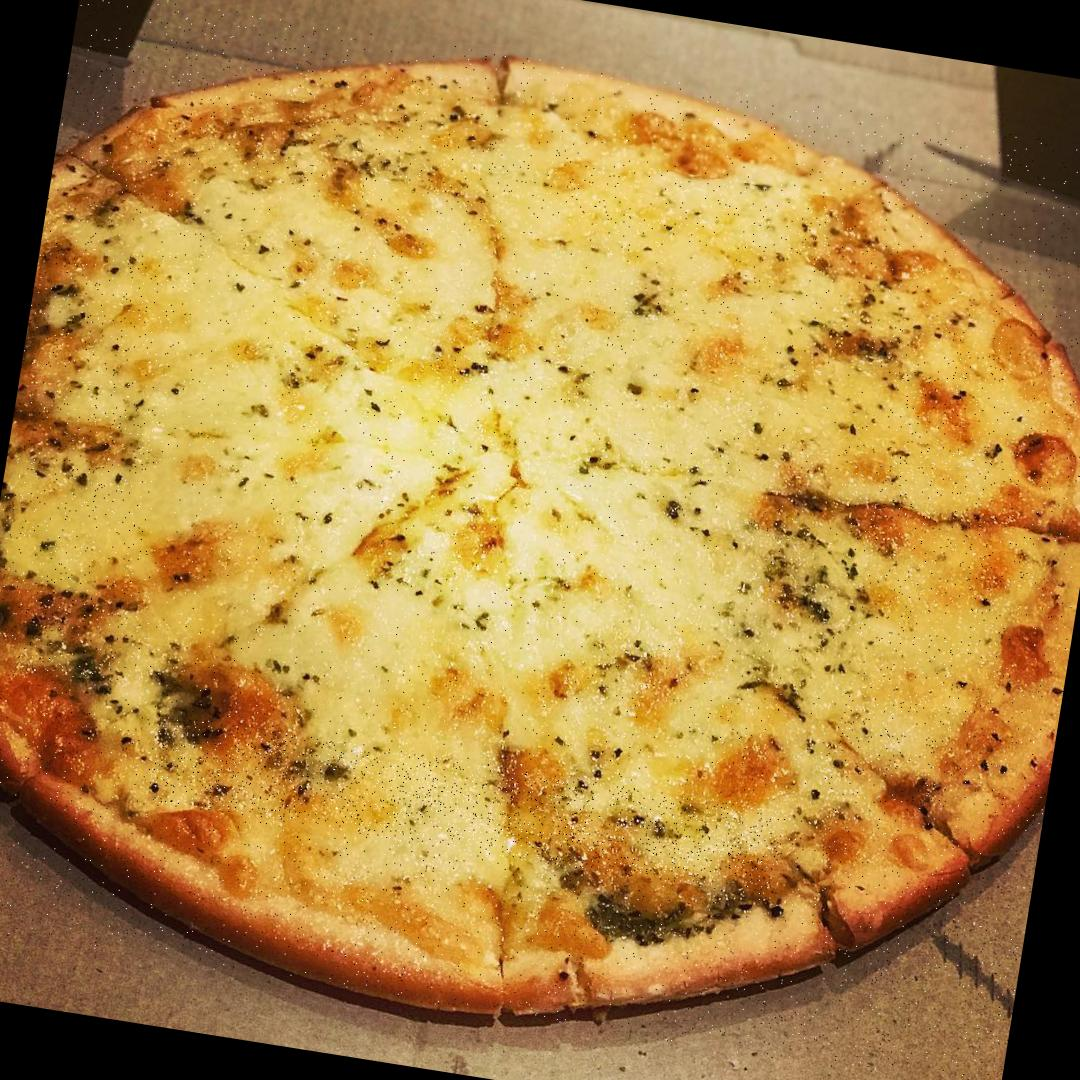Cheese: (120, 174, 910, 835), (147, 713, 786, 900), (284, 111, 860, 266), (828, 341, 1017, 811), (0, 234, 188, 680)
Pizza: (0, 0, 1080, 1080)
